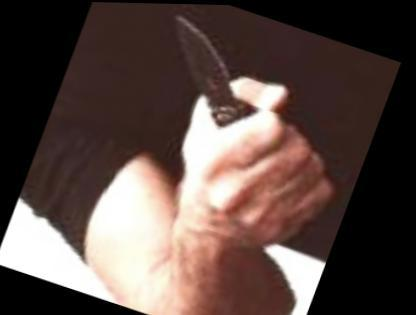knife: (108, 4, 340, 211)
